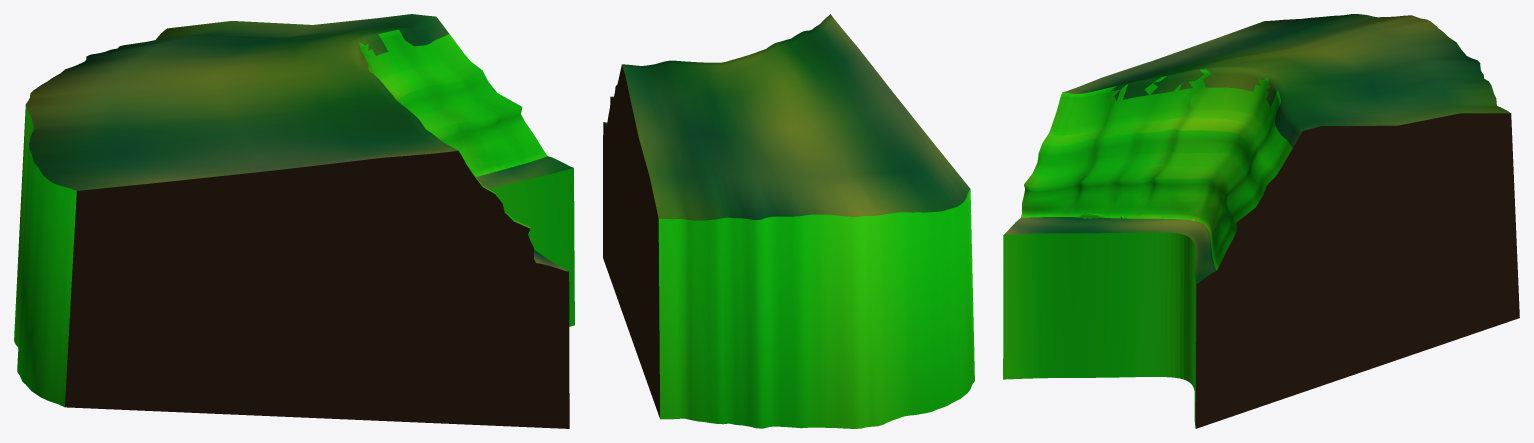
Rendered from SM_ForestRisingCliffs_10.fbx.
3 views of the same model, side by side, from view 1: azimuth 30°, elevation 25°; view 2: azimuth 150°, elevation 25°; view 3: azimuth 270°, elevation 25° (orthographic). The views are drawn at different scales.
Visible parts, largest first — view 1: SM_ForestRisingCliffs_10; view 2: SM_ForestRisingCliffs_10; view 3: SM_ForestRisingCliffs_10.
Boxes of the visible parts, <box> form: SM_ForestRisingCliffs_10: <box>14,14,574,428</box>; SM_ForestRisingCliffs_10: <box>603,14,974,428</box>; SM_ForestRisingCliffs_10: <box>1003,14,1519,428</box>.
Bounding box in the file's own units: 78.14 × 79.73 × 46.68.
